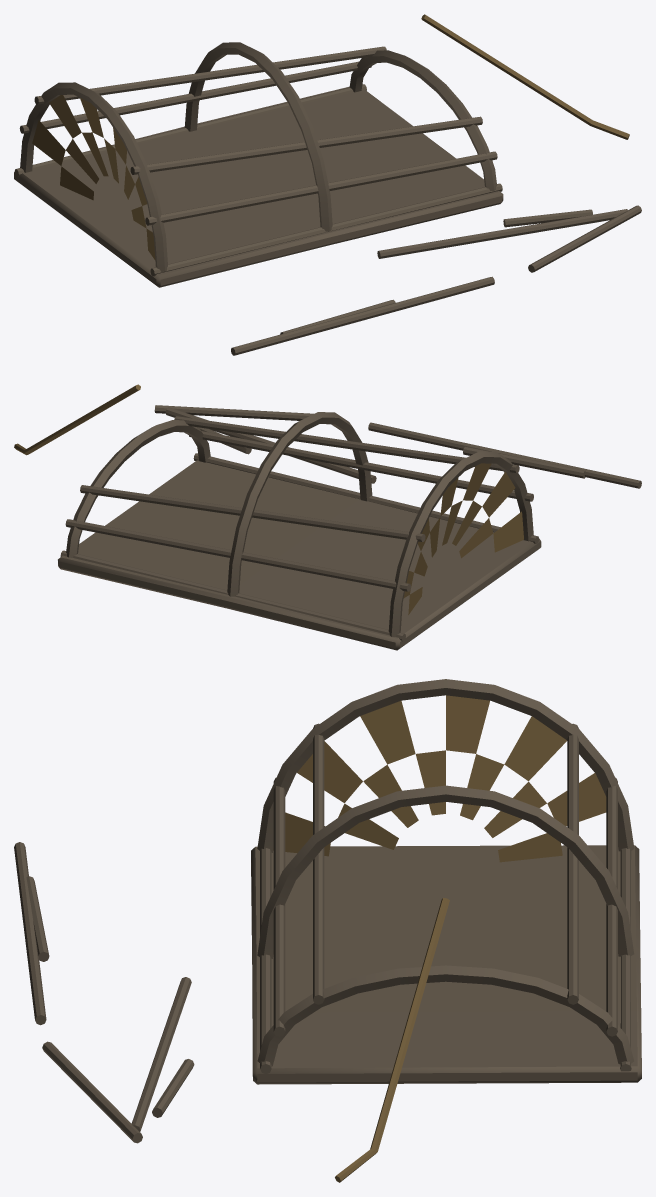
The model's file is hummerkorb_kaputt.glb.
3 views of the same model, one above another, from view 1: azimuth 30°, elevation 25°; view 2: azimuth 150°, elevation 25°; view 3: azimuth 270°, elevation 25° (orthographic). The views are drawn at different scales.
Parts seen in each view (by area): view 1: hummerkorb_kaputt; view 2: hummerkorb_kaputt; view 3: hummerkorb_kaputt.
Boxes of the visible parts, x1,y1,x2,y2 form: hummerkorb_kaputt: (14,14,641,355); hummerkorb_kaputt: (14,384,641,650); hummerkorb_kaputt: (14,679,641,1182).
Size of the model in its own units: 1.1 by 0.289 by 0.8722.
